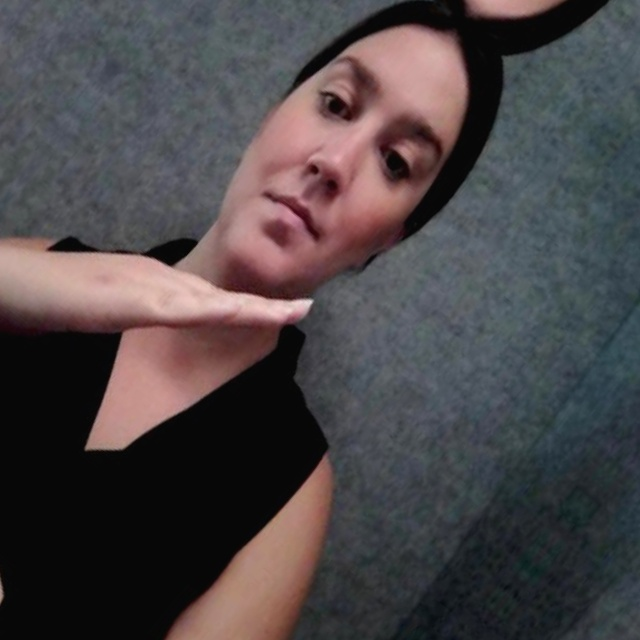Paper: (0, 127, 332, 491)
